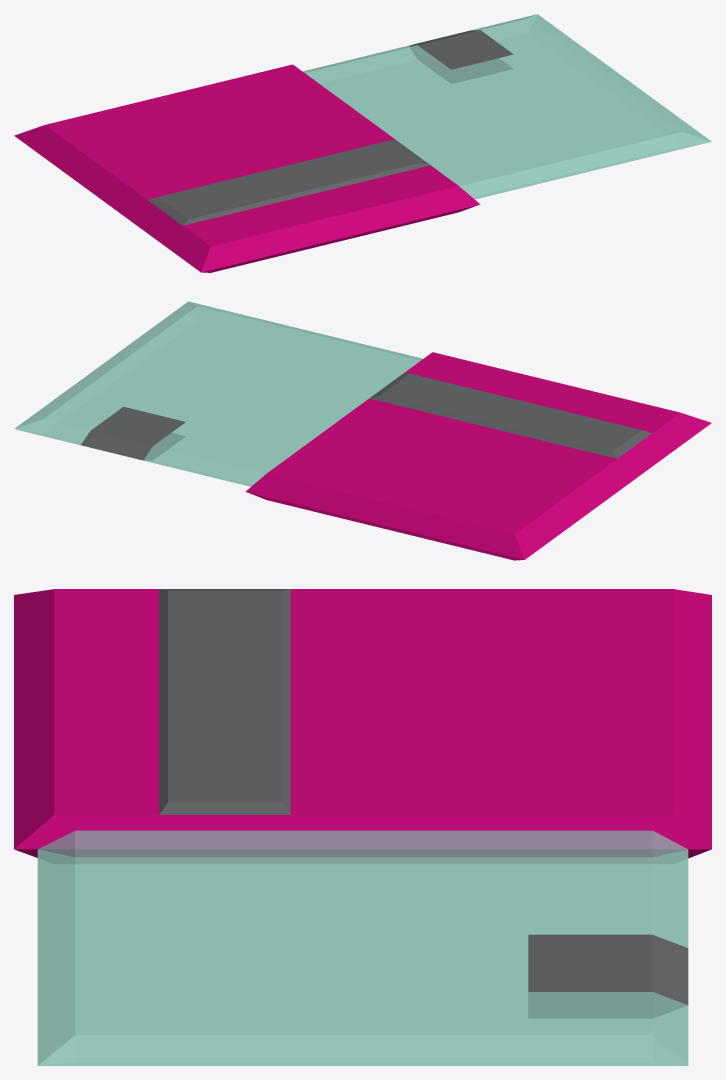
The model's file is key card.fbx.
The picture shows the model from 3 angles, top to bottom: view 1: azimuth 30°, elevation 25°; view 2: azimuth 150°, elevation 25°; view 3: azimuth 270°, elevation 25°; orthographic projection. The views are drawn at different scales.
Visible parts, largest first — view 1: pCube2, pCube1; view 2: pCube2, pCube1; view 3: pCube2, pCube1.
Part boxes in pixels (box(x1,y1,x2,y2)): pCube2: box(14, 64, 480, 272); pCube1: box(303, 14, 711, 199); pCube2: box(245, 352, 711, 560); pCube1: box(14, 301, 422, 486); pCube2: box(14, 589, 711, 858); pCube1: box(37, 830, 688, 1065).
Bounding box in the file's own units: 8.08 × 0.4368 × 5.06.
